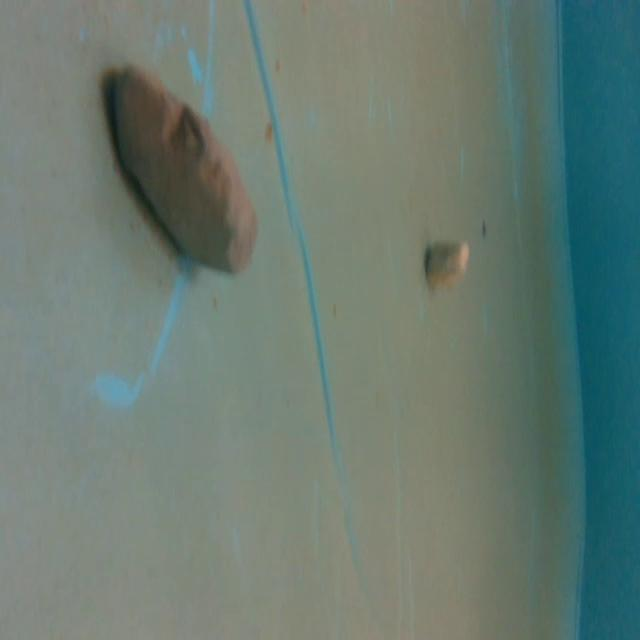rock: (102, 56, 267, 279), (416, 236, 476, 290)
